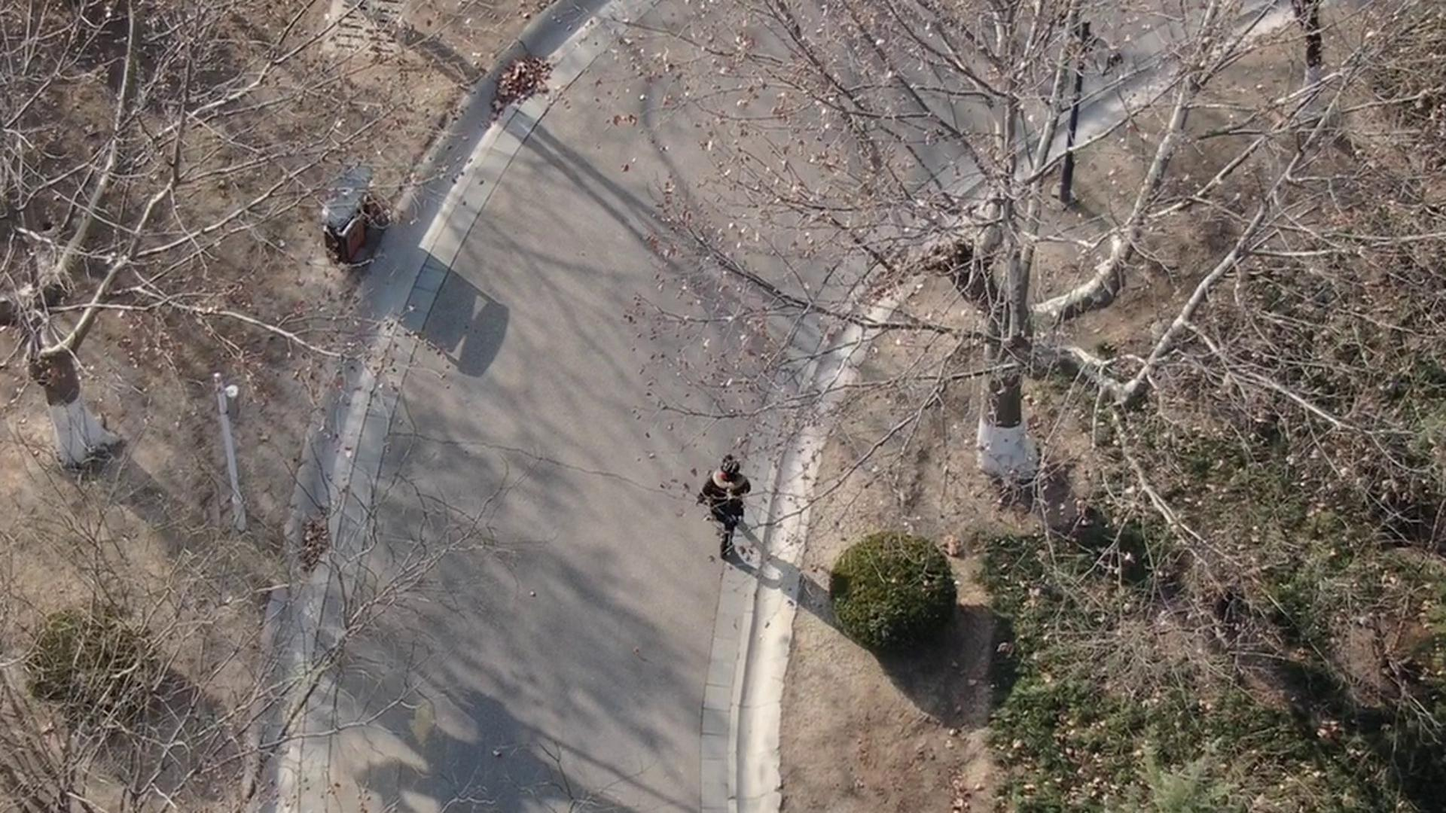human: (719, 452, 772, 559)
